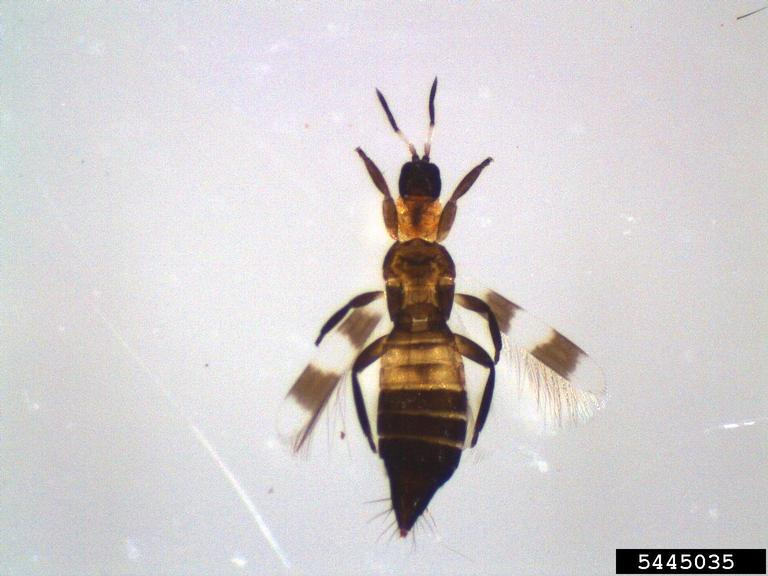Thrips: (280, 60, 606, 548)
